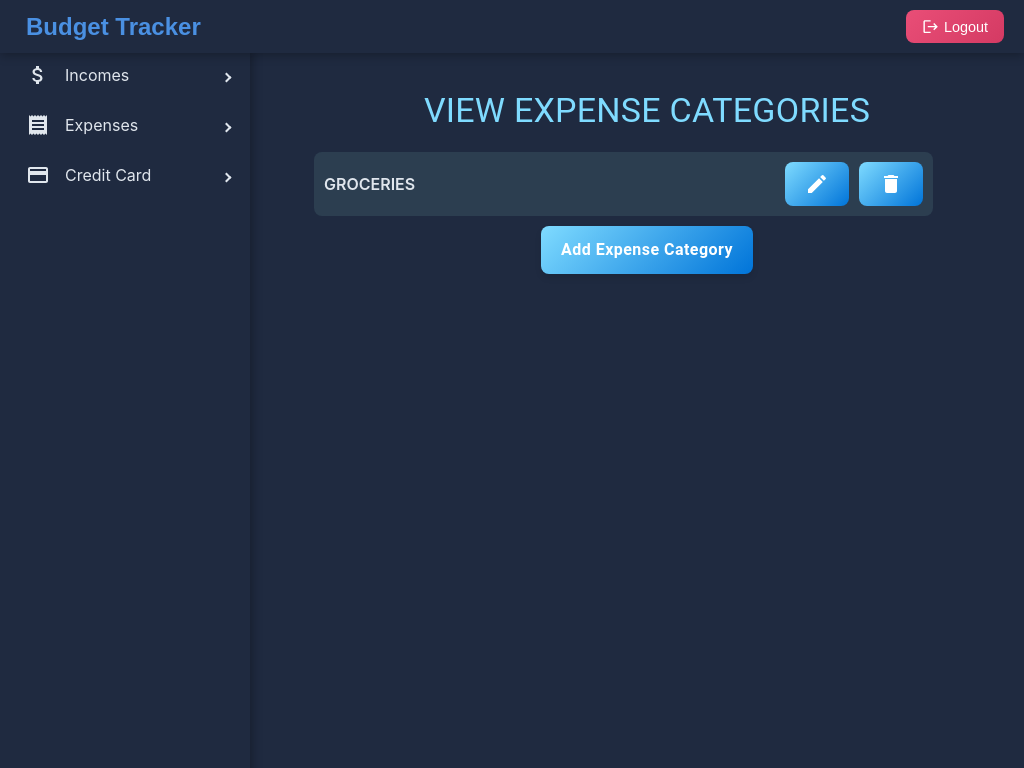
Scenario: ViewExpenseCategory View › handles deleting a category
The width and height of the screenshot is (1024, 768).
Expected: the text "Groceries" is shown, [324, 174, 415, 194]
Note: Click delete
Click the button with test id "DeleteIcon".
click(891, 184)  # box [859, 162, 923, 206]
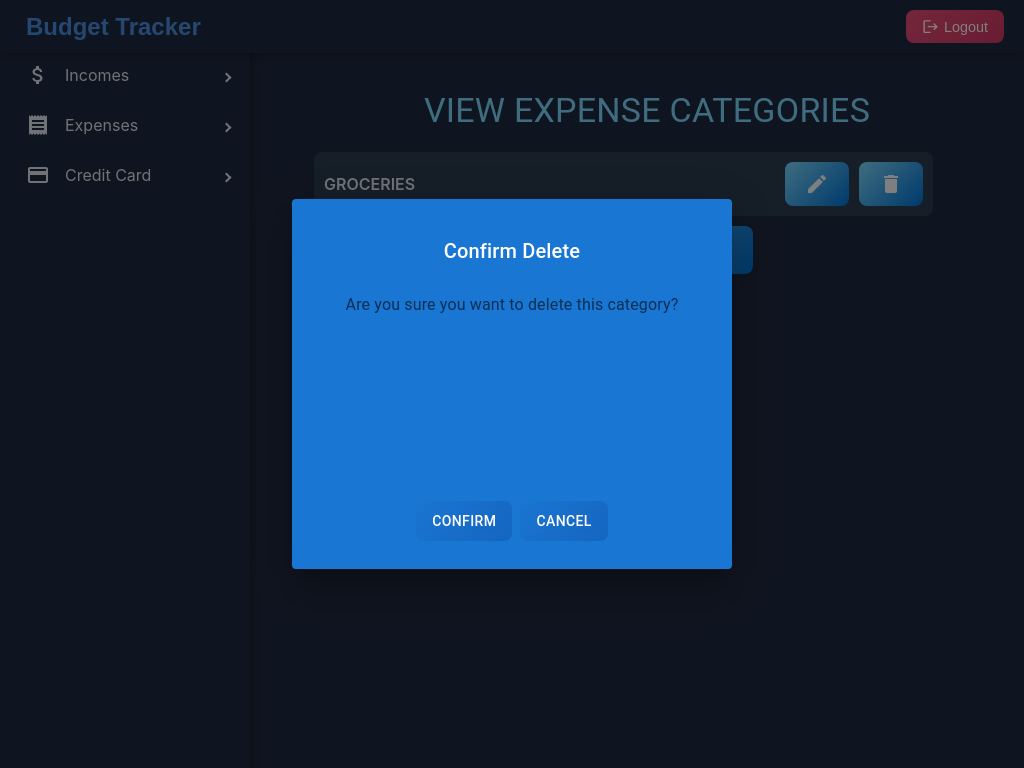
Note: Confirm deletion in the dialog
Click the button "Confirm".
click(464, 521)  # box [416, 501, 512, 541]
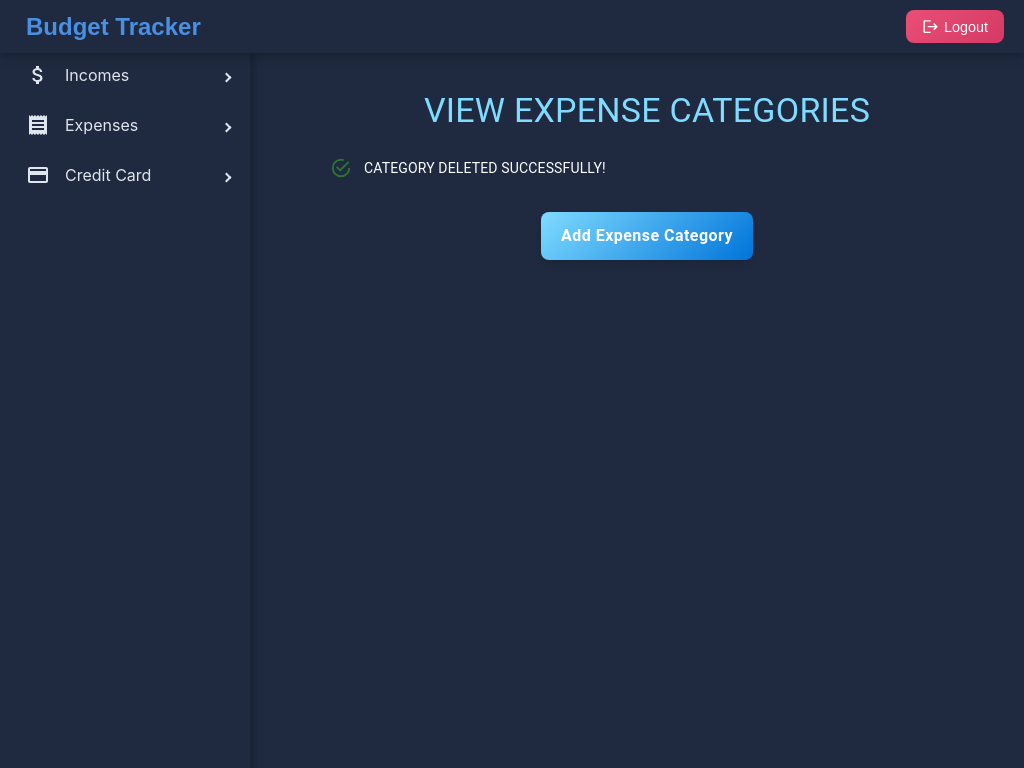
Result: the text "Groceries" is gone
